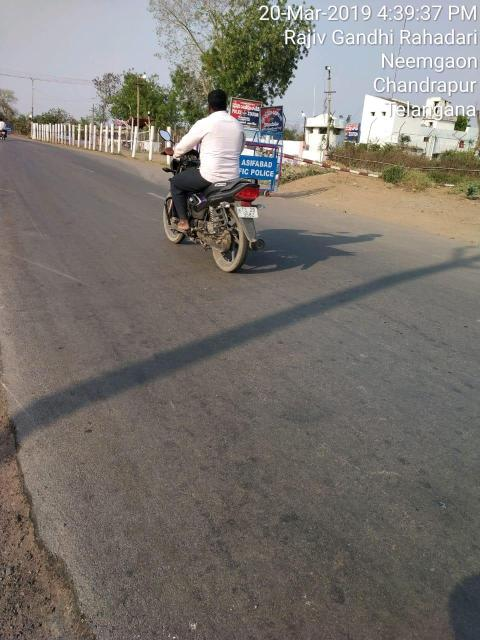motor: (158, 130, 270, 277)
non-helm: (206, 90, 230, 117)
